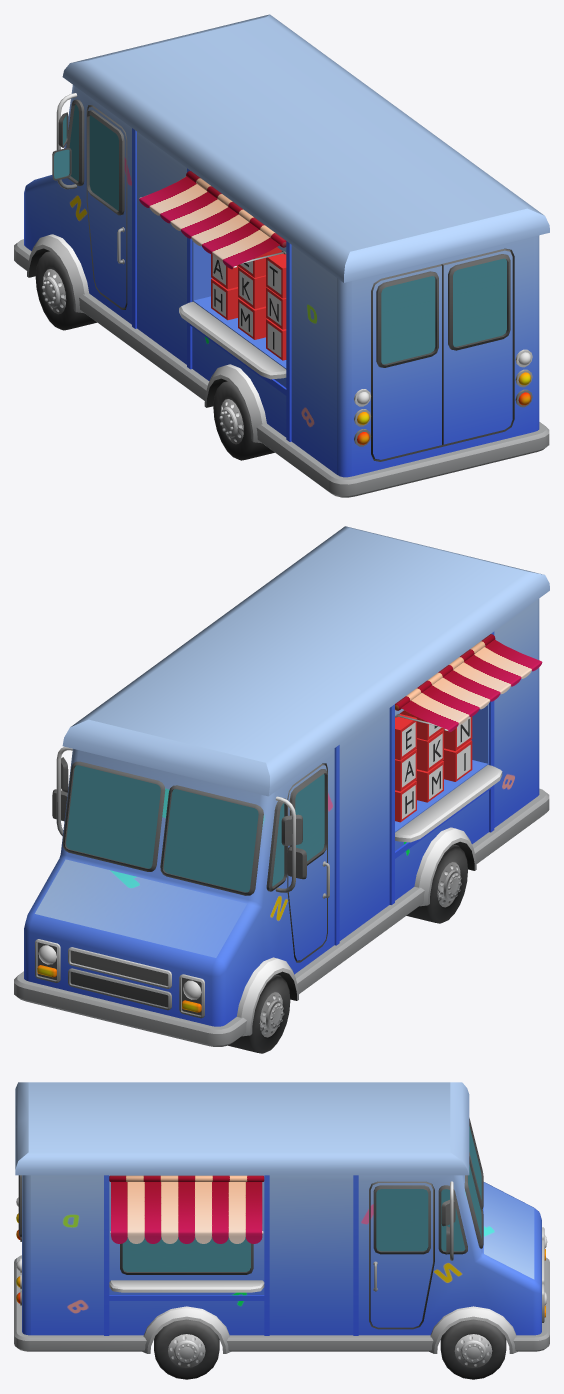
The model's file is Van.fbx.
3 views of the same model, one above another, from view 1: azimuth 30°, elevation 25°; view 2: azimuth 150°, elevation 25°; view 3: azimuth 270°, elevation 25° (orthographic). The views are drawn at different scales.
Visible parts, largest first — view 1: Car_Ice, Car_Ice.002, Cube.004, Cube.001, Cube.002, Cube.006, Cube.003, Cube, Cube.005; view 2: Car_Ice, Car_Ice.002, Cube, Cube.008, Cube.004, Cube.001, Cube.005, Cube.002, Cube.003; view 3: Car_Ice.
Part boxes in pixels (bbox=[...]): Car_Ice: bbox=[14, 14, 549, 497]; Car_Ice.002: bbox=[139, 176, 286, 269]; Cube.004: bbox=[238, 266, 266, 308]; Cube.001: bbox=[238, 298, 267, 339]; Cube.002: bbox=[211, 278, 239, 320]; Cube.006: bbox=[266, 253, 286, 298]; Cube.003: bbox=[266, 287, 286, 329]; Cube: bbox=[266, 319, 286, 360]; Cube.005: bbox=[211, 253, 238, 289]; Car_Ice: bbox=[14, 526, 549, 1053]; Car_Ice.002: bbox=[395, 639, 542, 732]; Cube: bbox=[443, 740, 472, 781]; Cube.008: bbox=[395, 714, 416, 760]; Cube.004: bbox=[416, 729, 443, 771]; Cube.001: bbox=[416, 761, 443, 802]; Cube.005: bbox=[395, 749, 416, 791]; Cube.002: bbox=[395, 780, 416, 822]; Cube.003: bbox=[443, 716, 472, 750]; Car_Ice: bbox=[14, 1082, 549, 1379].
Size of the model in its own units: 324 by 274 by 602.
